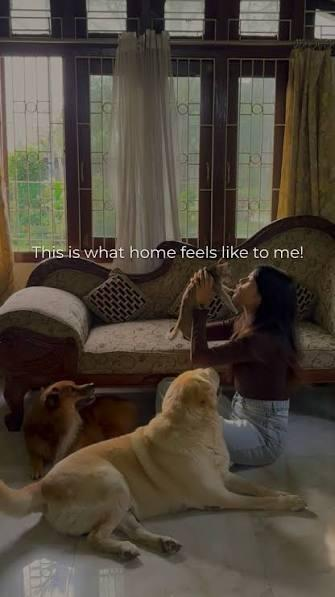adult_dog: (0, 367, 318, 558), (23, 380, 138, 480)
non-dog: (159, 262, 302, 470)
